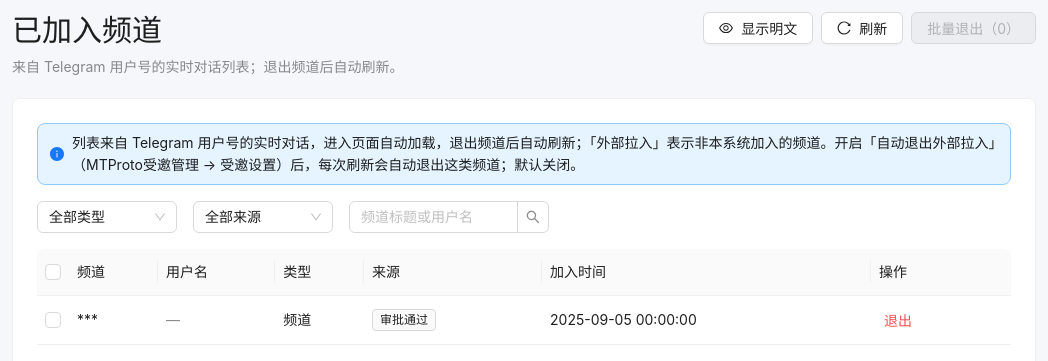
已加入频道页 › 进入页面自动加载一次；频道名默认暗文，切换显示明文
Expected: the text "***" is shown, [69,296,158,344]
Expected: the text "私有频道" is not shown
Click the button "显示明文" at coordinates (758, 28), box [703,12,813,44]
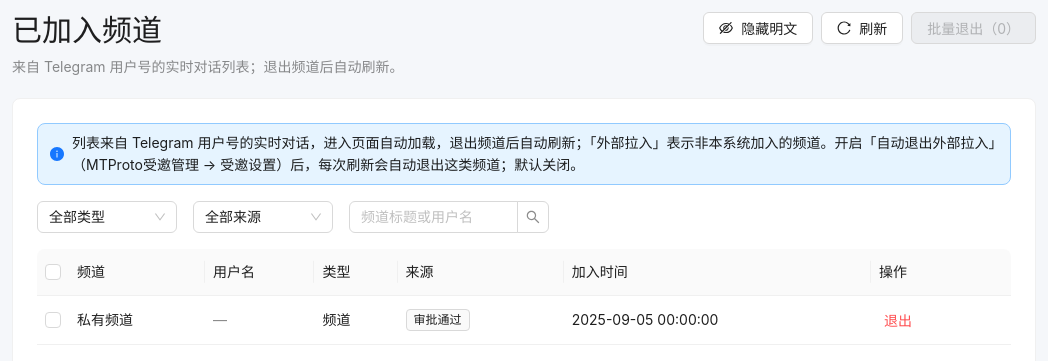
Now the text "私有频道" is shown, box [69,296,205,344]
